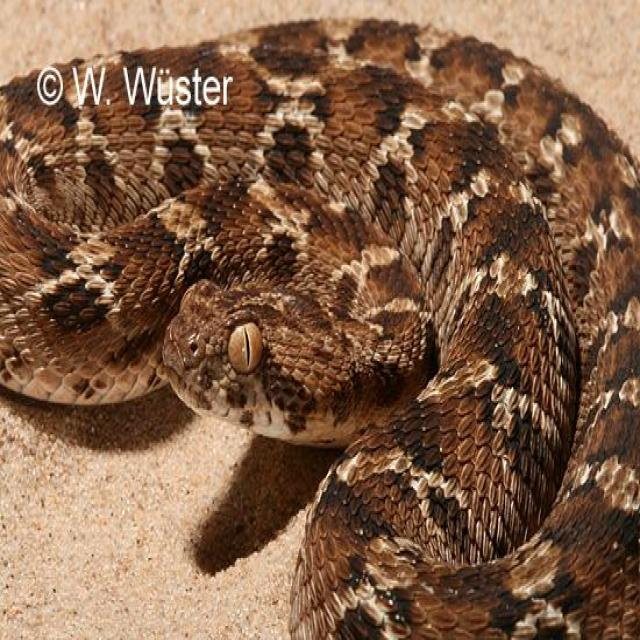Snake: (0, 14, 638, 636)
